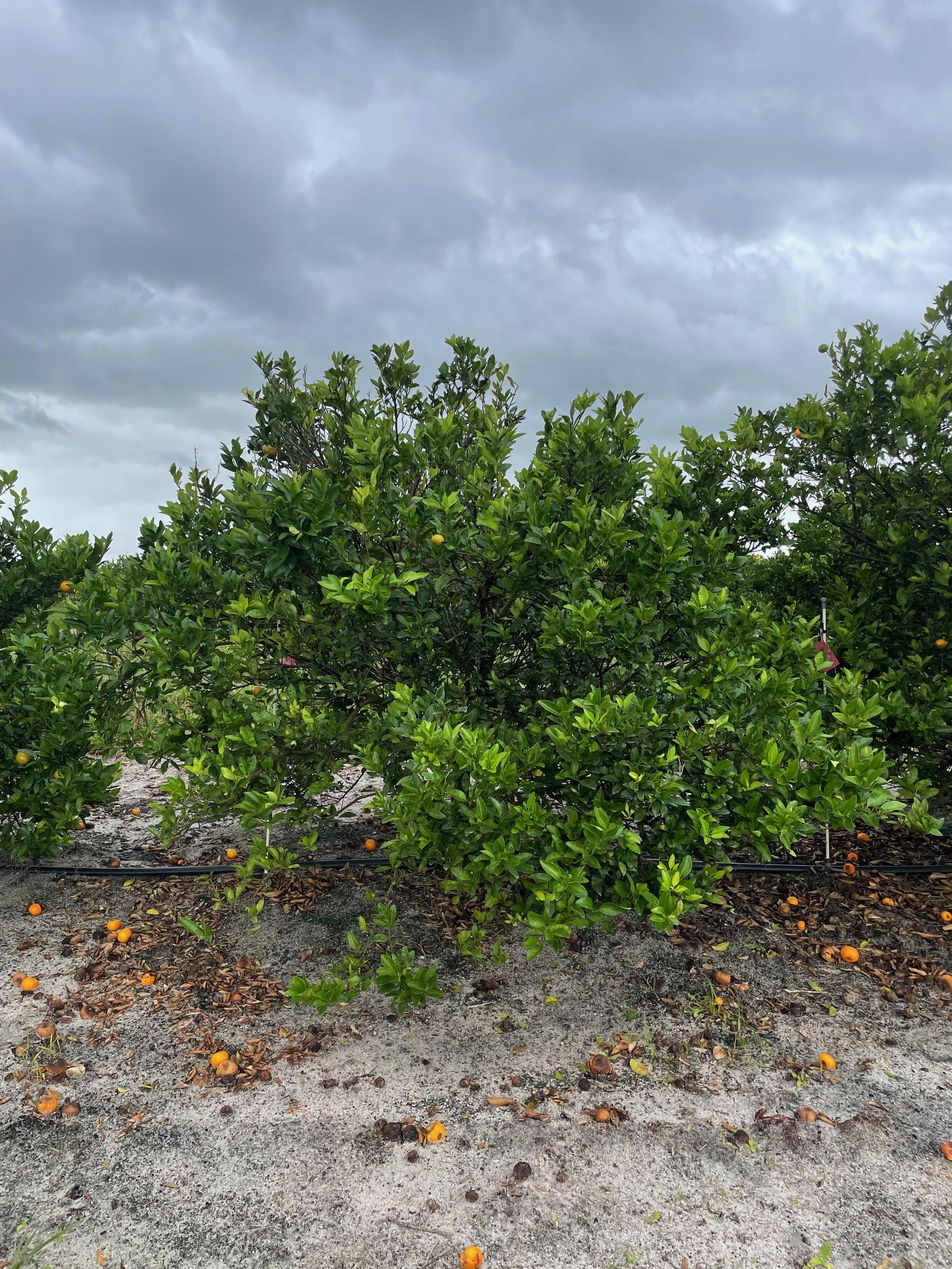fruit_on_ground: (260, 440, 280, 458), (15, 749, 32, 766), (59, 579, 76, 594), (430, 533, 446, 547), (933, 636, 948, 650), (240, 460, 255, 474), (794, 426, 807, 440), (251, 685, 263, 698)
fruit_on_tree: (421, 1119, 448, 1144), (458, 1243, 485, 1268), (587, 1052, 614, 1076), (44, 1054, 67, 1075), (838, 944, 861, 965), (215, 1058, 238, 1078), (36, 1094, 58, 1114), (819, 944, 840, 963), (796, 1103, 817, 1122), (35, 1019, 56, 1038), (61, 1098, 82, 1117), (817, 1051, 838, 1070), (939, 1136, 952, 1164), (20, 974, 40, 992), (593, 1106, 612, 1124), (209, 1049, 229, 1066), (714, 968, 732, 986), (841, 860, 858, 876), (117, 926, 134, 942), (793, 917, 809, 933), (139, 971, 156, 986), (77, 1005, 95, 1019), (105, 917, 121, 932), (28, 901, 44, 916), (10, 971, 25, 986), (786, 892, 801, 907), (363, 837, 378, 852), (224, 846, 239, 860), (106, 856, 122, 869), (844, 850, 860, 863), (856, 830, 871, 843), (72, 819, 86, 832), (940, 909, 952, 922), (84, 818, 96, 830), (169, 854, 182, 864), (130, 805, 141, 815)
